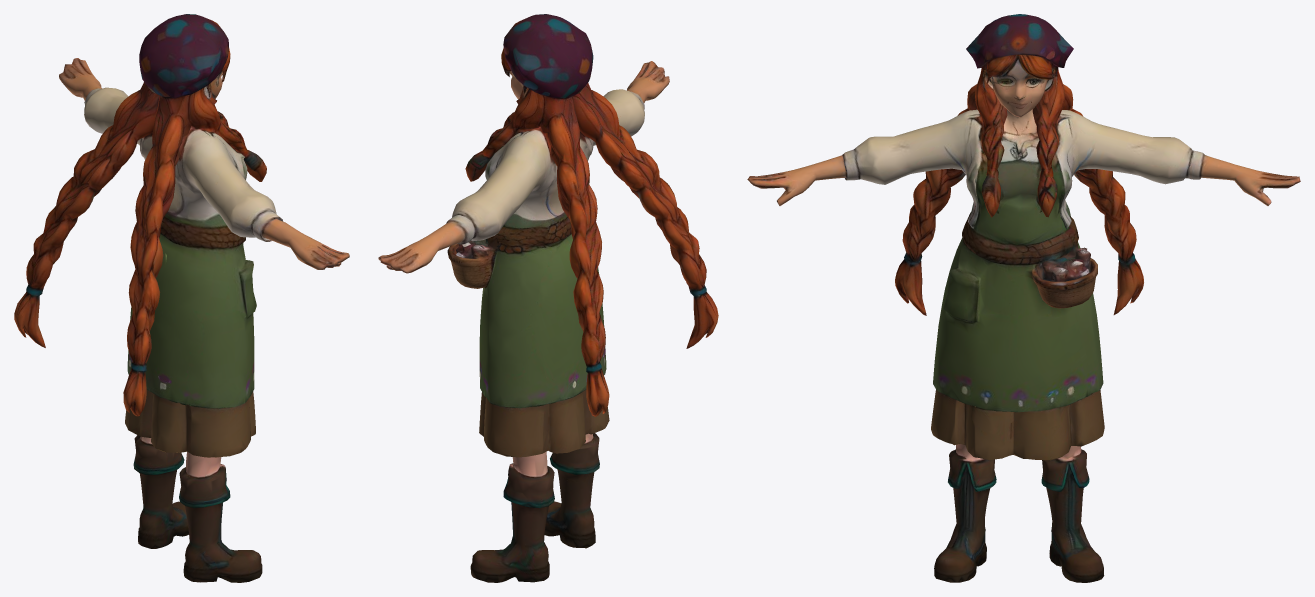
File: n2_preserver.3a65a28a.glb
The picture shows the model from 3 angles, left to right: view 1: azimuth 30°, elevation 25°; view 2: azimuth 150°, elevation 25°; view 3: azimuth 270°, elevation 25°; orthographic projection.
Visible parts, largest first — view 1: tripo_node_5154a610-db11-4e2e-9b26-cbab4d20eaea; view 2: tripo_node_5154a610-db11-4e2e-9b26-cbab4d20eaea; view 3: tripo_node_5154a610-db11-4e2e-9b26-cbab4d20eaea.
Part boxes in pixels (box(x1,y1,x2,y2)): tripo_node_5154a610-db11-4e2e-9b26-cbab4d20eaea: box(14, 14, 349, 582); tripo_node_5154a610-db11-4e2e-9b26-cbab4d20eaea: box(378, 14, 718, 582); tripo_node_5154a610-db11-4e2e-9b26-cbab4d20eaea: box(747, 14, 1300, 582).
Size of the model in its own units: 0.3672 by 1 by 0.9167.
1 material, 1 textured.
